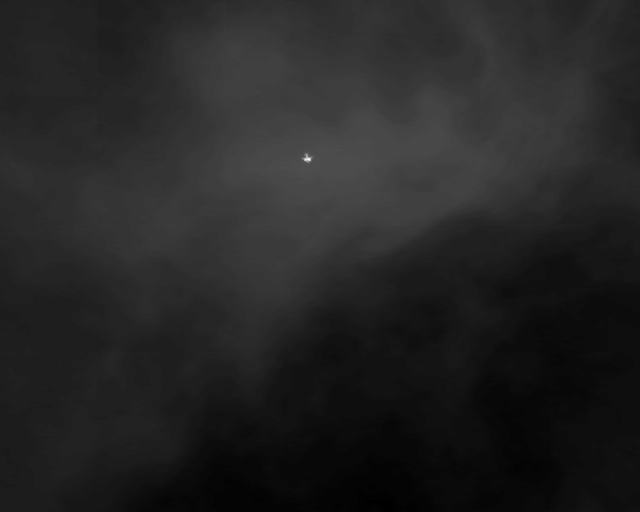Target: (302, 153, 315, 165)
